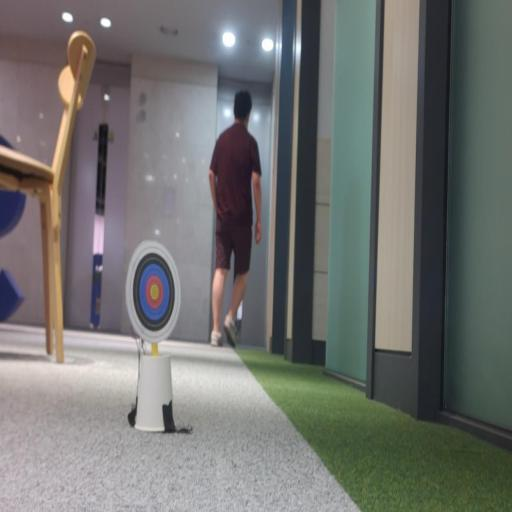target: (126, 240, 180, 342)
